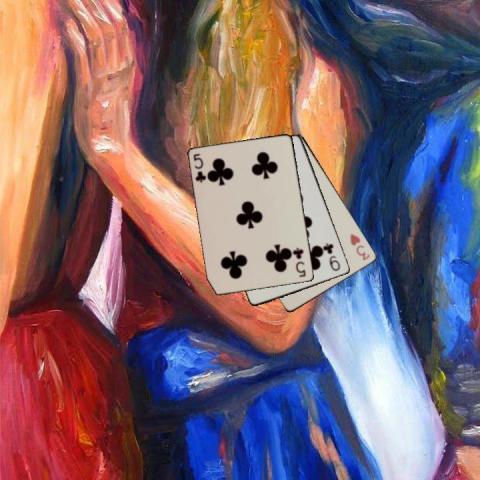3h: (347, 231, 372, 262)
5c: (291, 244, 308, 278), (191, 151, 207, 184)
9c: (322, 240, 342, 273)
